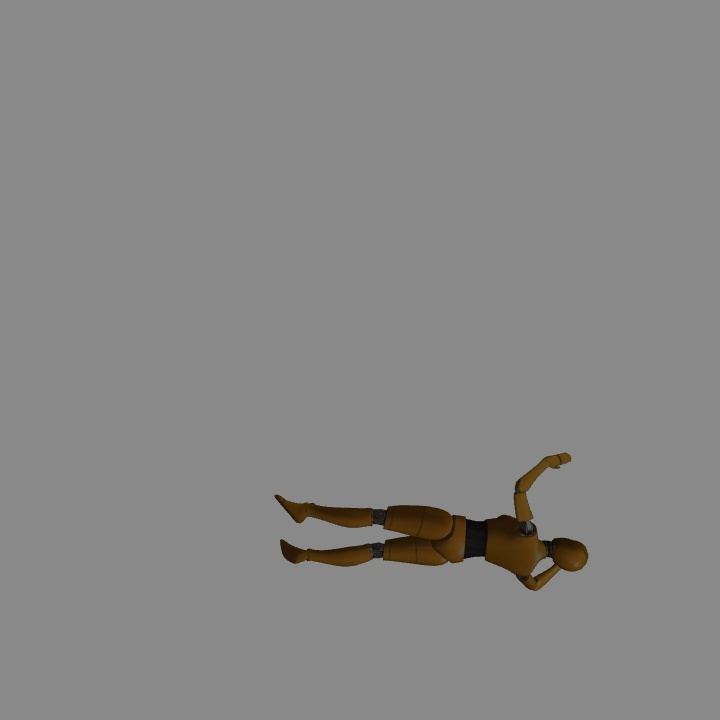victim: (275, 486, 589, 590)
